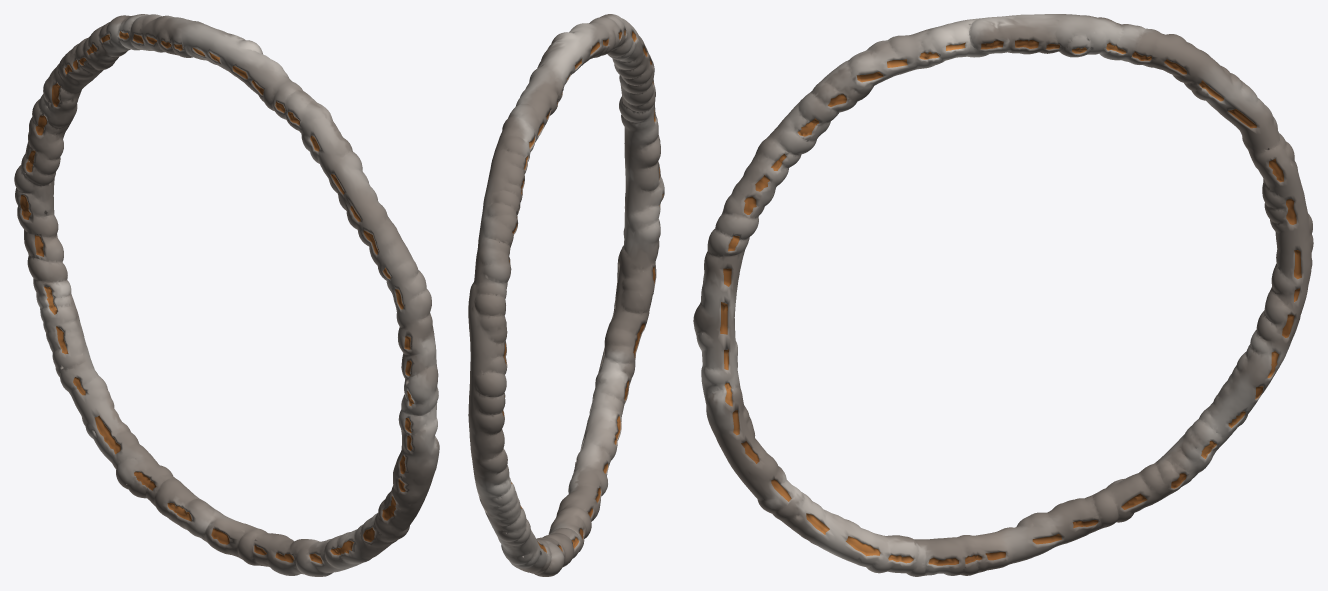
File: BONE-1.glb
3 views of the same model, side by side, from view 1: azimuth 30°, elevation 25°; view 2: azimuth 150°, elevation 25°; view 3: azimuth 270°, elevation 25° (orthographic). The views are drawn at different scales.
Visible parts, largest first — view 1: BONE-1; view 2: BONE-1; view 3: BONE-1.
Part boxes in pixels (box(x1,y1,x2,y2)): BONE-1: box(14, 14, 439, 576); BONE-1: box(468, 14, 664, 576); BONE-1: box(693, 14, 1313, 576).
Bounding box in the file's own units: 804 × 2610 × 2661.
